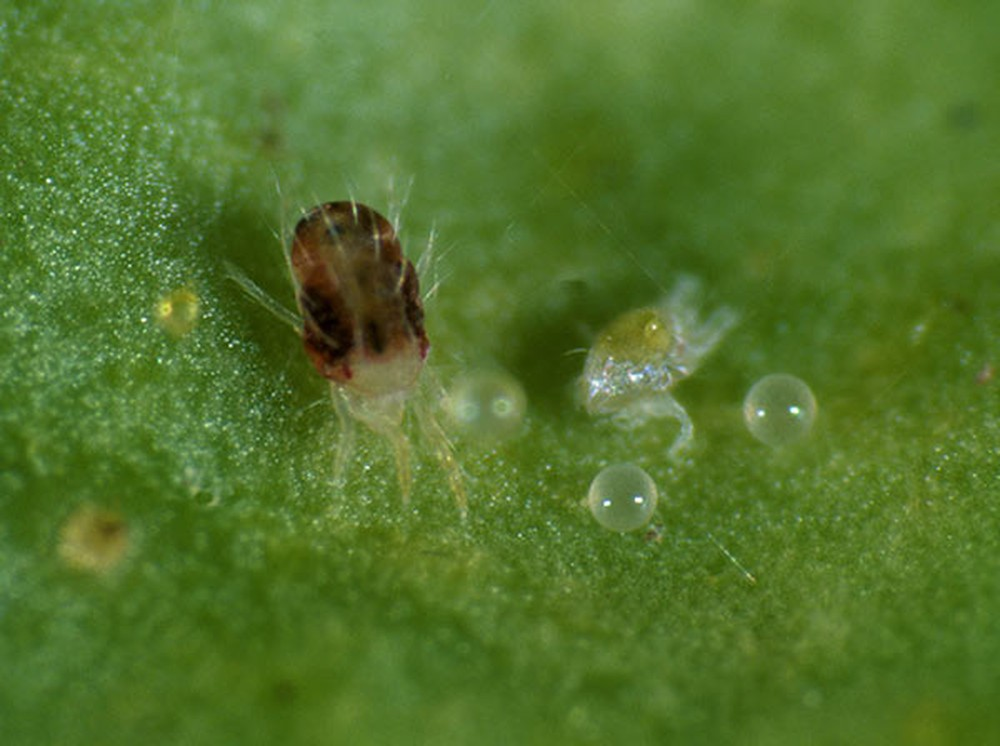Aracnido Rojo: (220, 158, 512, 549)
